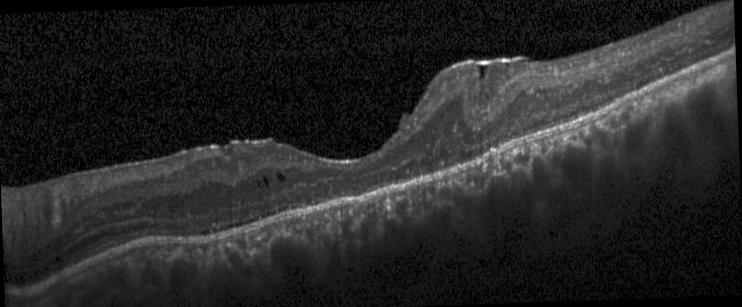intraretinal_cyst: (478, 64, 488, 79), (275, 170, 285, 181), (262, 174, 271, 186), (256, 179, 261, 187)
